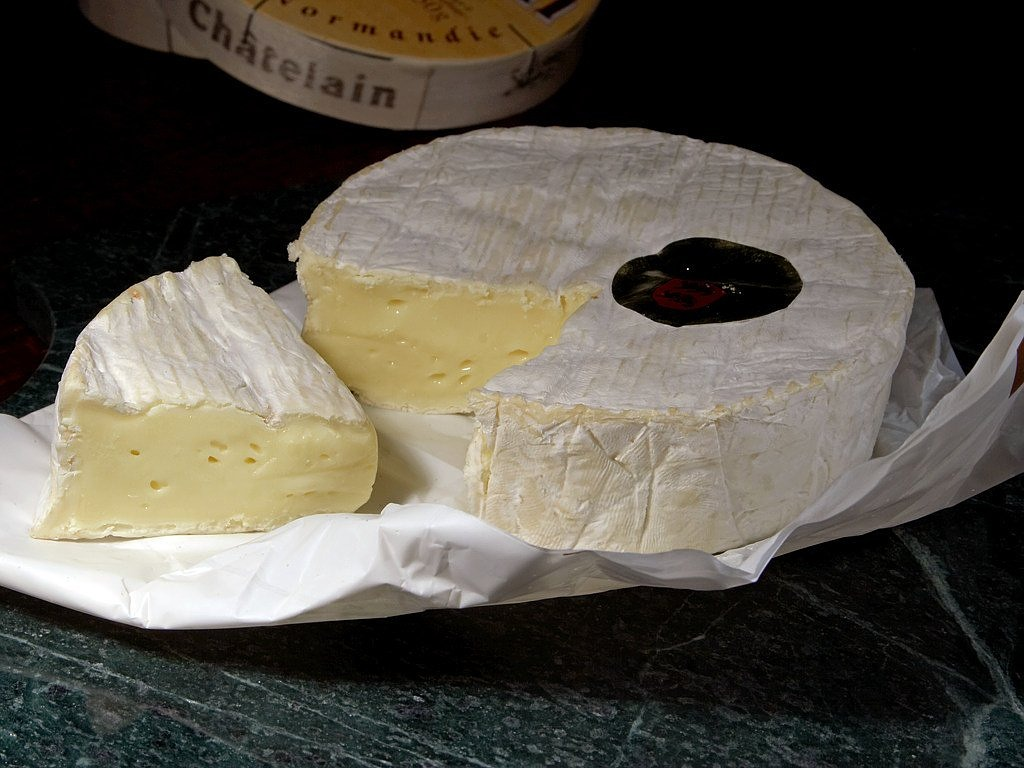camembert: (291, 123, 922, 553), (31, 252, 381, 547)
